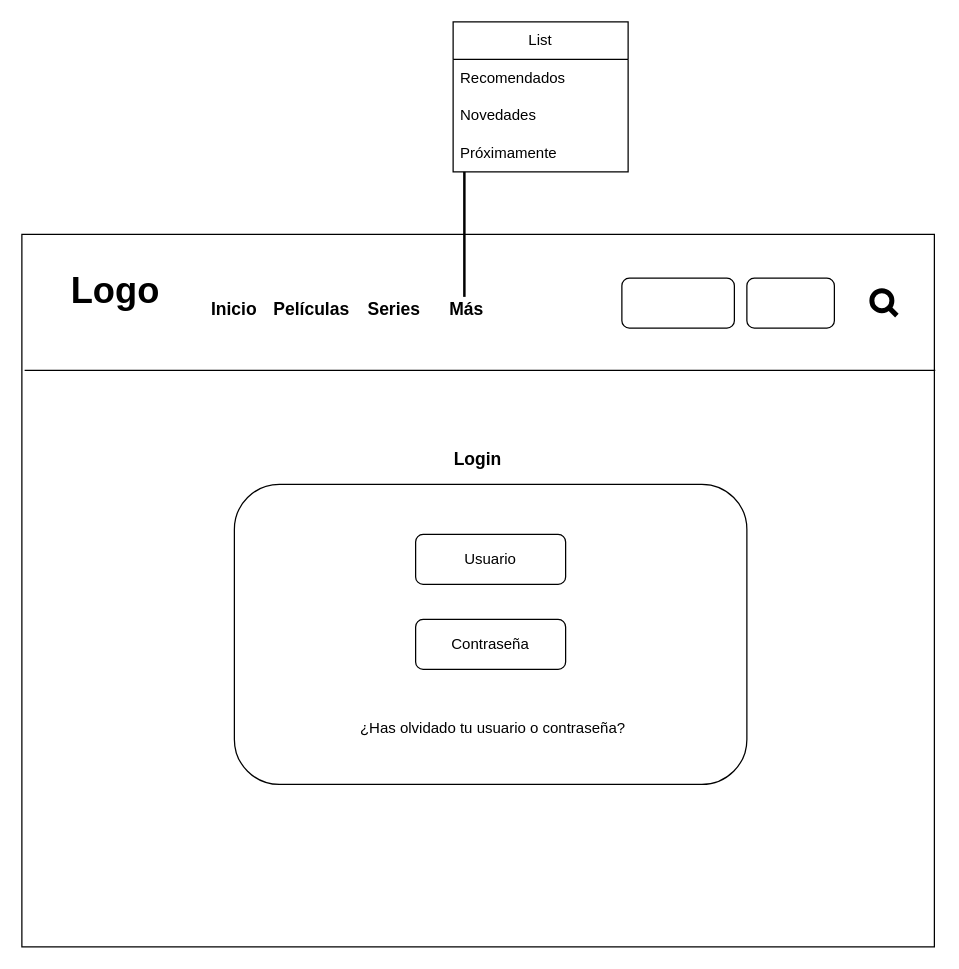
This 959x969 diagram has some shape labels left out. The shapes that lost their labels are listed below. From the top down, each one's centre as x and y in pixels, then its label:
At pixel 677 302: "SUSCRÍBETE".
At pixel 790 302: "ENTRA".
